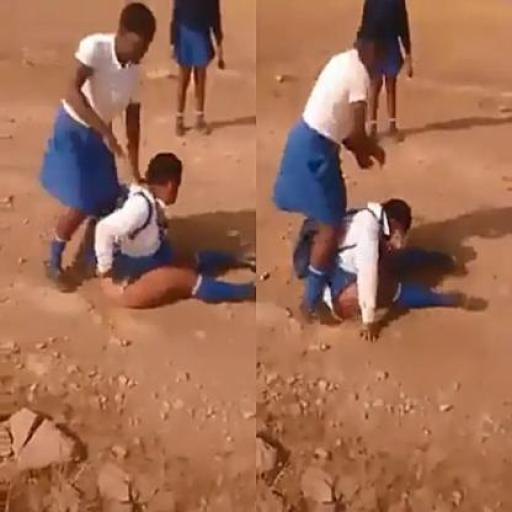Fighting: (269, 0, 492, 338), (42, 2, 256, 310)
